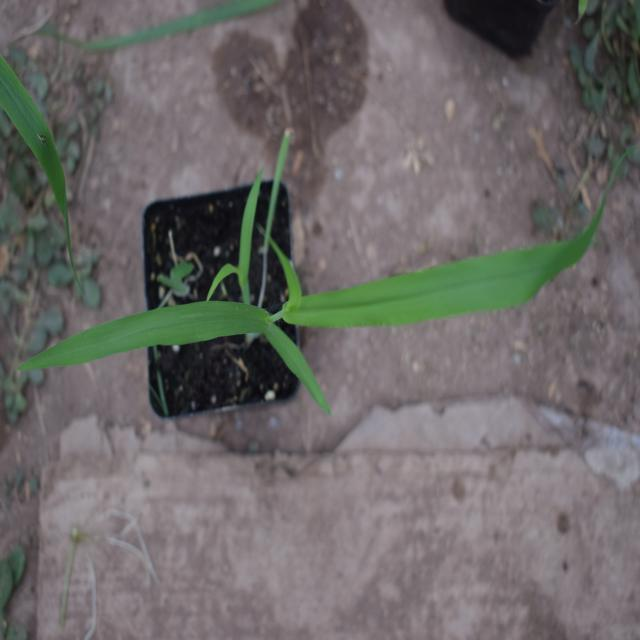crabgrass: (44, 195, 574, 434)
